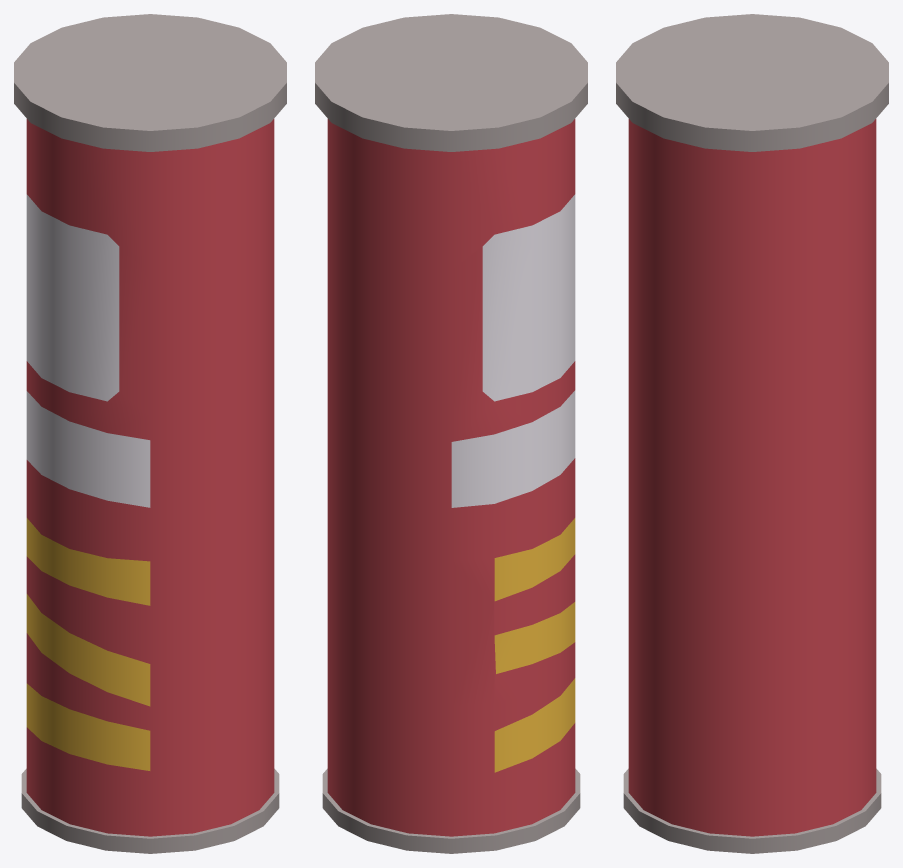
The model's file is P_chips.fbx.
3 views of the same model, side by side, from view 1: azimuth 30°, elevation 25°; view 2: azimuth 150°, elevation 25°; view 3: azimuth 270°, elevation 25° (orthographic).
Visible parts, largest first — view 1: Cylinder013; view 2: Cylinder013; view 3: Cylinder013.
Part boxes in pixels (x1=…): Cylinder013: x1=14, y1=14, x2=286, y2=853; Cylinder013: x1=315, y1=14, x2=587, y2=853; Cylinder013: x1=616, y1=14, x2=888, y2=853.
Bounding box in the file's own units: 3.88 × 11.23 × 3.82.
